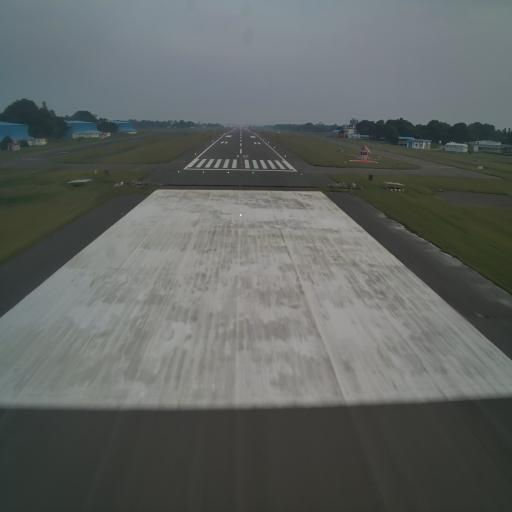off: (475, 308, 485, 322), (120, 210, 124, 218), (354, 212, 358, 219)
on: (239, 213, 243, 218)
